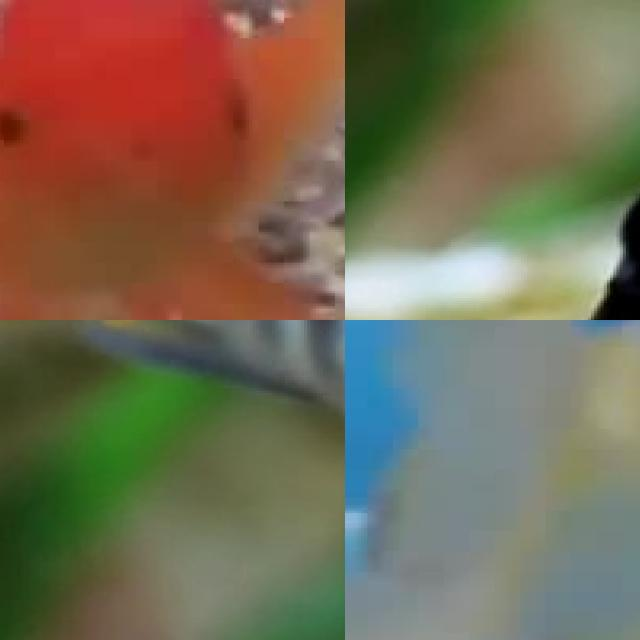fish: (0, 0, 345, 320), (0, 320, 345, 497), (345, 320, 640, 508)
